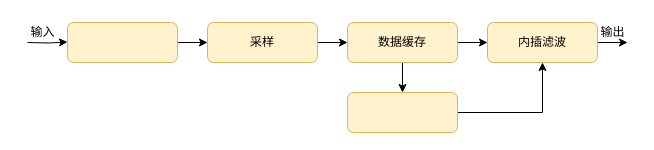
Image size: 654x150. Some labels were removed from this diagram. Each missing label, with the centre of its shape:
匹配滤波: the point at 122,42
定时估计: the point at 402,112
